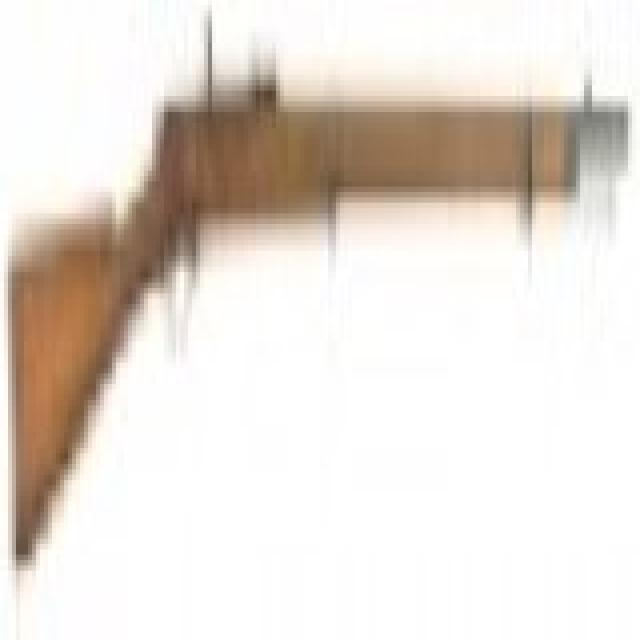Gun: (3, 15, 640, 562)
